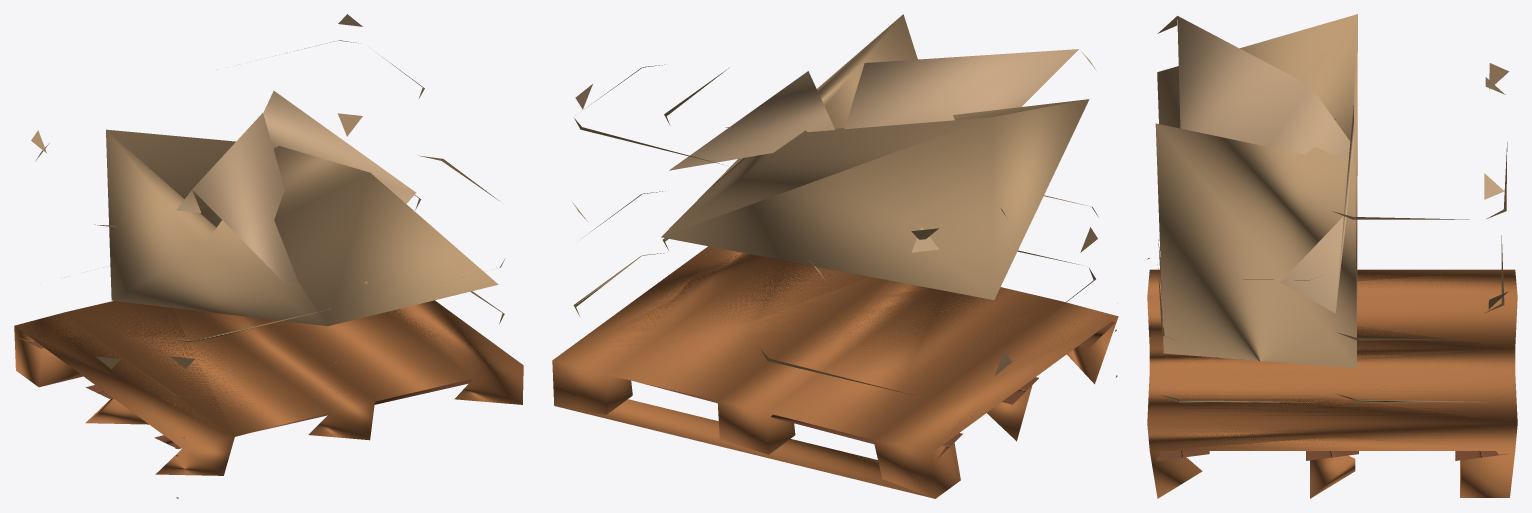
The model's file is prop.sandbag-pallet.lod1.glb.
3 views of the same model, side by side, from view 1: azimuth 30°, elevation 25°; view 2: azimuth 150°, elevation 25°; view 3: azimuth 270°, elevation 25° (orthographic). The views are drawn at different scales.
Size of the model in its own units: 1.4 by 1.15 by 1.19.
